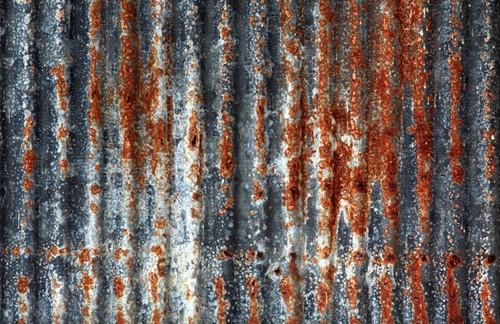rust: (281, 15, 470, 201), (117, 6, 173, 149), (86, 5, 105, 142), (407, 253, 428, 323)
